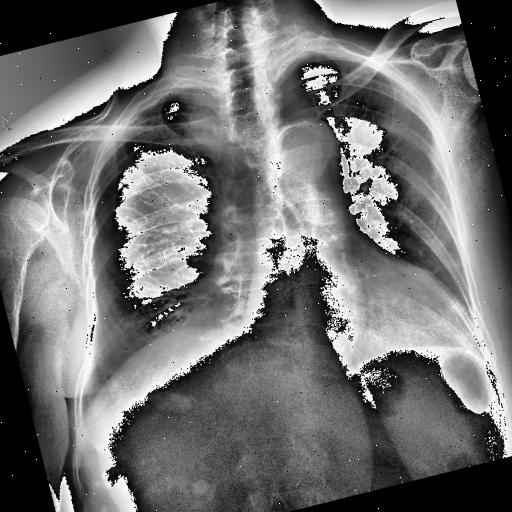0- Aortic enlargement: (263, 114, 350, 208), (260, 114, 344, 183), (272, 110, 346, 184)
11- Pleural thickening: (104, 82, 182, 134), (120, 84, 182, 126), (117, 86, 178, 128), (317, 38, 366, 74)
3- Cardiomegaly: (234, 224, 472, 395), (239, 246, 479, 404), (212, 243, 466, 372)
